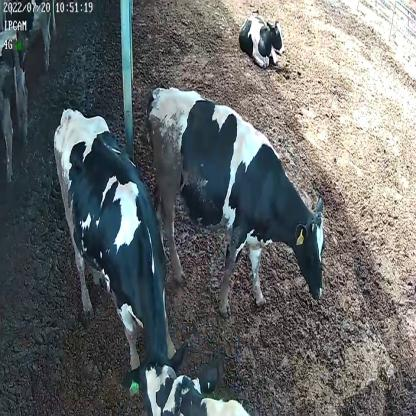cow: (52, 104, 189, 416), (148, 83, 328, 318), (236, 8, 287, 67)
